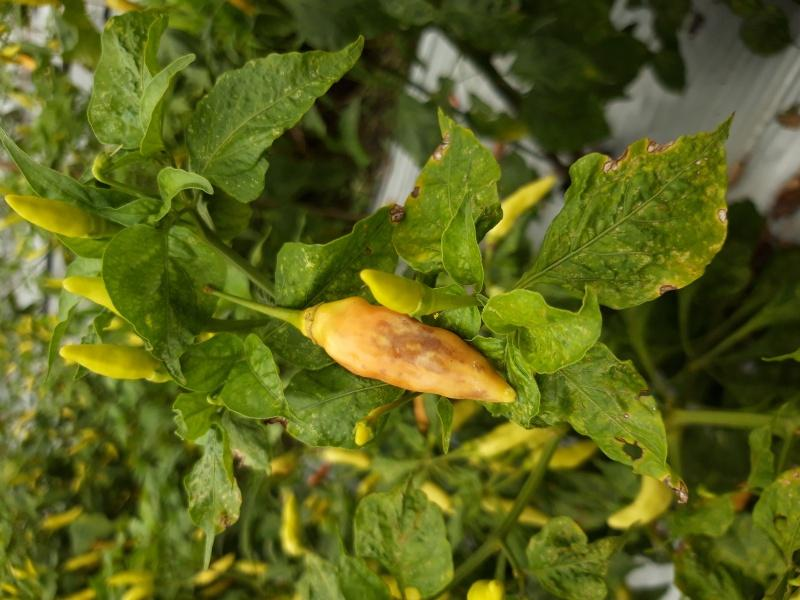cabai_normal: (56, 340, 161, 380), (6, 191, 94, 235), (364, 268, 426, 314)
lalat_buah: (309, 297, 514, 403)
